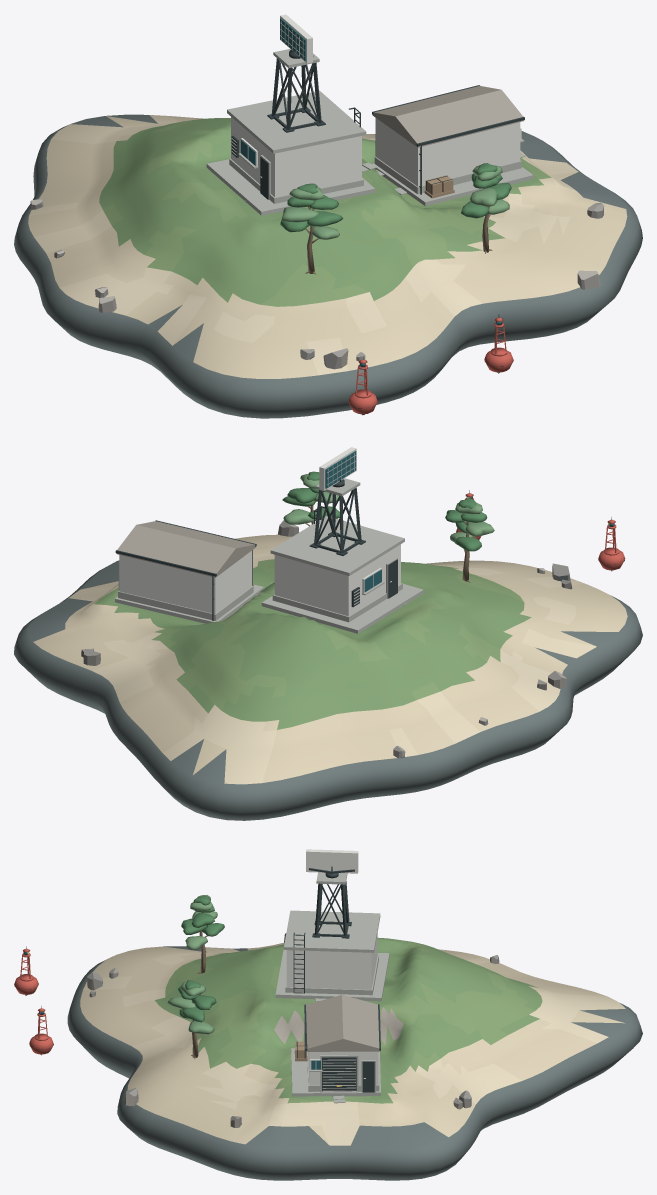
The model's file is ENV_RadarOutpost_LOD1.fbx.
3 views of the same model, one above another, from view 1: azimuth 30°, elevation 25°; view 2: azimuth 150°, elevation 25°; view 3: azimuth 270°, elevation 25° (orthographic). The views are drawn at different scales.
Visible parts, largest first — view 1: TerrainShell, ENV_RadarStation_0_Visual, ENV_SupplyDepot_1_Visual, ENV_CoastalPine_2_Visual, Decor_Visual, ENV_CoastalPine_3_Visual, SearchArrayHead_Visual, ENV_NavigationBuoy_4_Visual, ENV_NavigationBuoy_5_Visual; view 2: TerrainShell, ENV_RadarStation_0_Visual, ENV_SupplyDepot_1_Visual, ENV_CoastalPine_2_Visual, Decor_Visual, ENV_CoastalPine_3_Visual, SearchArrayHead_Visual, ENV_NavigationBuoy_4_Visual; view 3: TerrainShell, ENV_RadarStation_0_Visual, ENV_SupplyDepot_1_Visual, ENV_CoastalPine_3_Visual, ENV_CoastalPine_2_Visual, SearchArrayHead_Visual, Decor_Visual, ENV_NavigationBuoy_4_Visual, ENV_NavigationBuoy_5_Visual.
Part boxes in pixels (x1,y1,x2,y2): TerrainShell: (14, 114, 642, 418); ENV_RadarStation_0_Visual: (206, 49, 375, 215); ENV_SupplyDepot_1_Visual: (371, 85, 533, 206); ENV_CoastalPine_2_Visual: (280, 183, 343, 274); Decor_Visual: (30, 153, 604, 369); ENV_CoastalPine_3_Visual: (461, 163, 511, 253); SearchArrayHead_Visual: (280, 14, 313, 63); ENV_NavigationBuoy_4_Visual: (348, 356, 377, 415); ENV_NavigationBuoy_5_Visual: (484, 314, 513, 373); TerrainShell: (14, 534, 642, 820); ENV_RadarStation_0_Visual: (261, 478, 423, 633); ENV_SupplyDepot_1_Visual: (115, 520, 263, 623); ENV_CoastalPine_2_Visual: (445, 498, 494, 582); Decor_Visual: (81, 520, 572, 758); ENV_CoastalPine_3_Visual: (282, 471, 339, 526); SearchArrayHead_Visual: (319, 447, 356, 490); ENV_NavigationBuoy_4_Visual: (598, 517, 625, 571); TerrainShell: (67, 937, 642, 1180); ENV_RadarStation_0_Visual: (275, 872, 389, 1001); ENV_SupplyDepot_1_Visual: (291, 995, 380, 1096); ENV_CoastalPine_3_Visual: (167, 980, 216, 1059); ENV_CoastalPine_2_Visual: (181, 895, 224, 973); SearchArrayHead_Visual: (306, 849, 358, 873); Decor_Visual: (87, 933, 499, 1127); ENV_NavigationBuoy_4_Visual: (14, 946, 38, 995); ENV_NavigationBuoy_5_Visual: (29, 1006, 53, 1055).
Size of the model in its own units: 2964 by 1336 by 3550.
